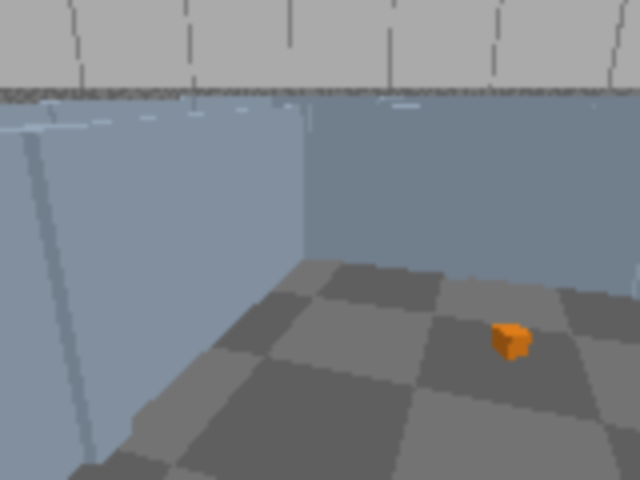puck: (491, 322, 532, 360)
